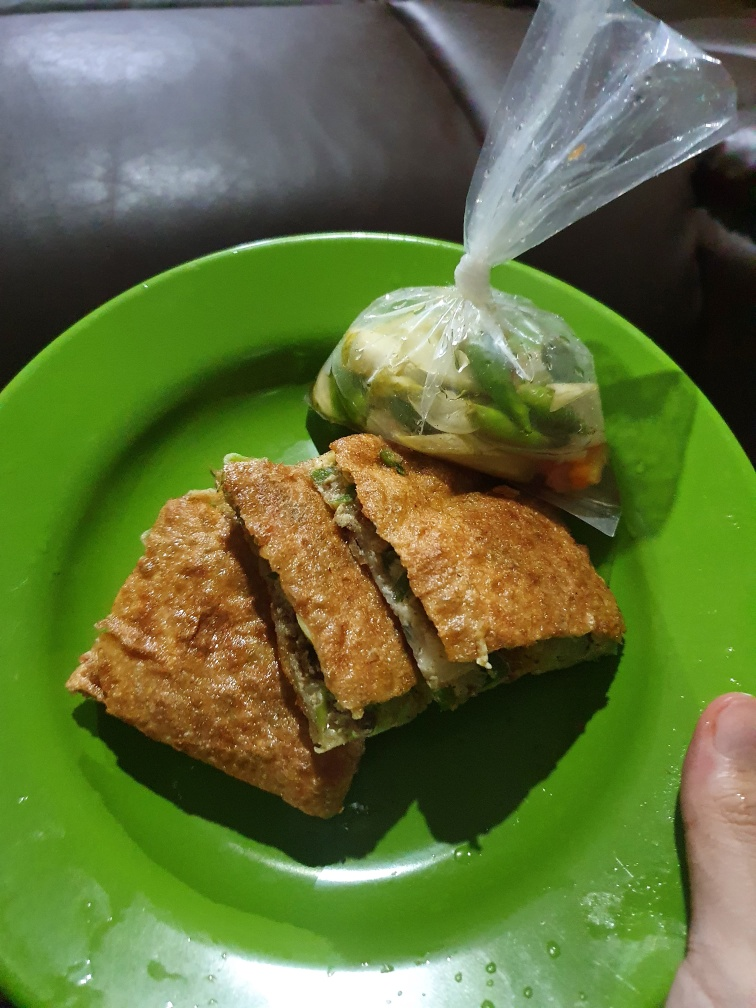martabak telor: (315, 407, 668, 698), (95, 474, 382, 824), (213, 446, 448, 731)
